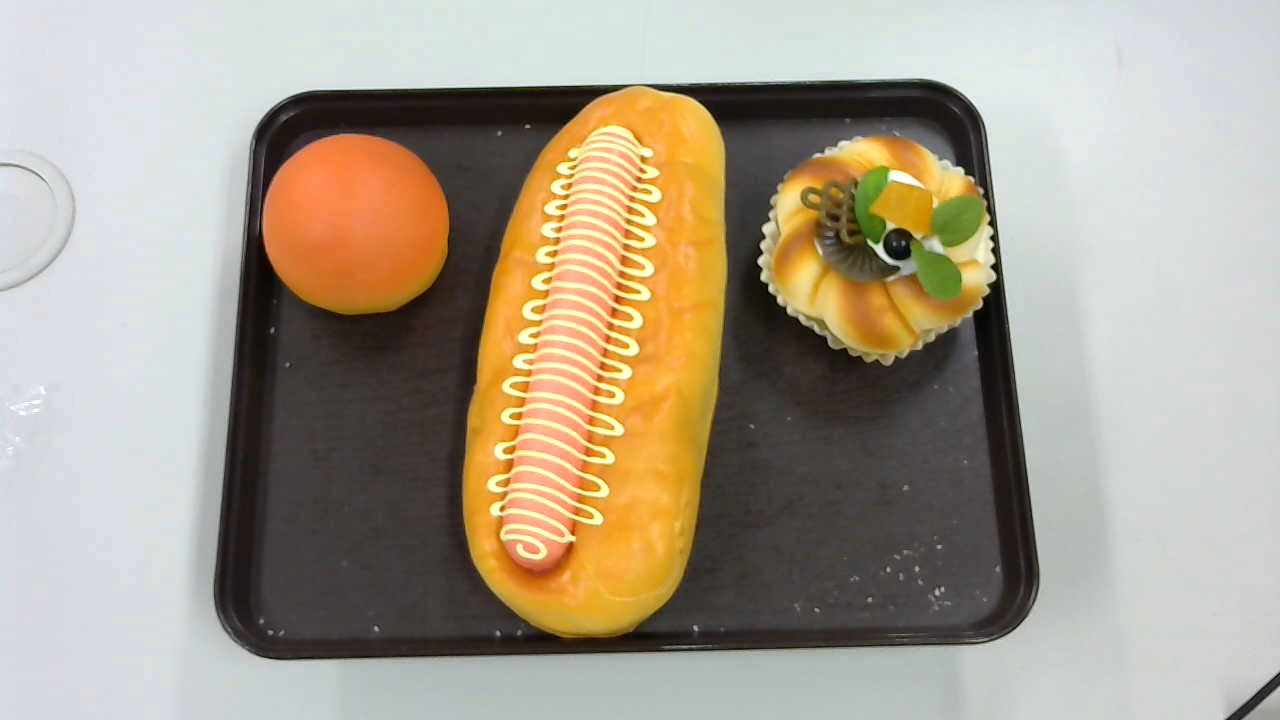bun: (259, 133, 449, 316)
fruit tart: (759, 132, 998, 368)
hot dog: (462, 86, 729, 638)
